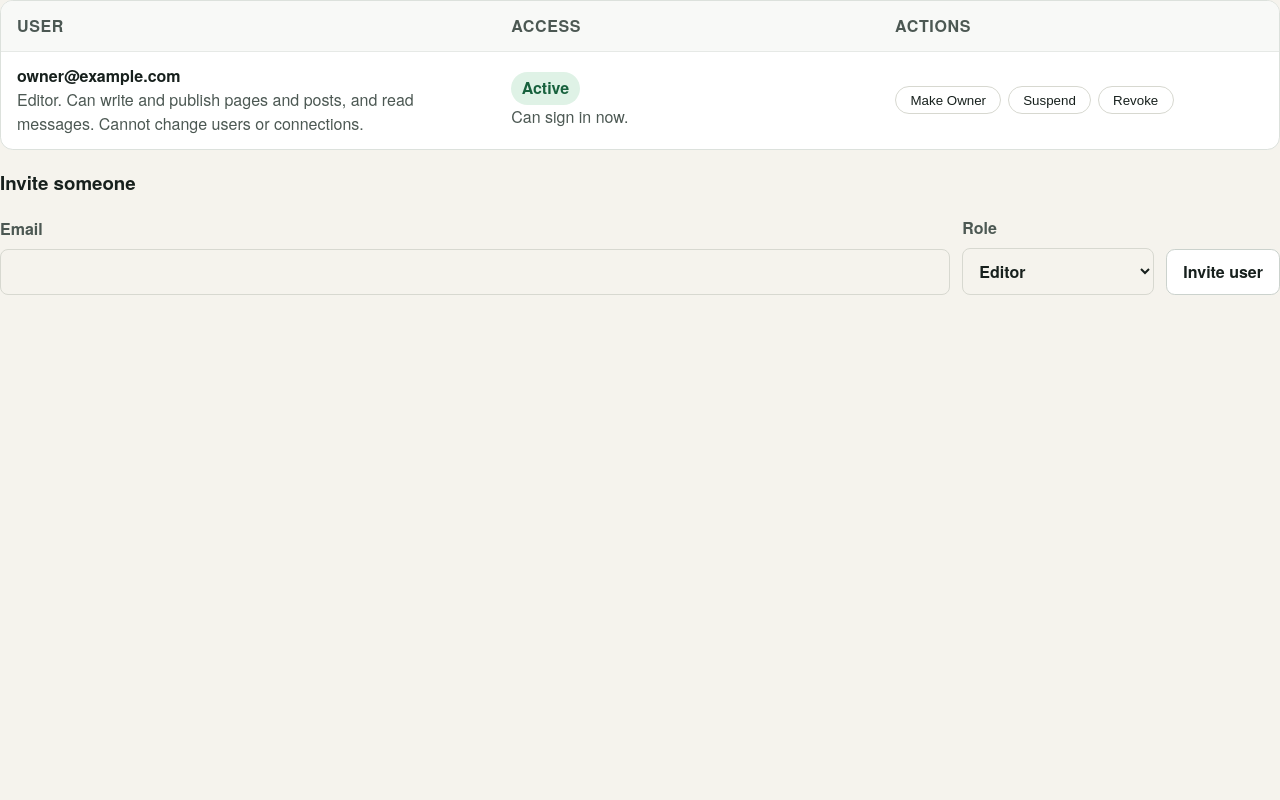
Scenario: Settings Users panel and its shared access mutation state › shares one mutation state: a failed request's retry button appears in the technical detail controls
What coordinates should you click on to do the following:
click the button "Make Owner"
I would click on:
 (948, 100)
Its box is [895, 86, 1001, 114].
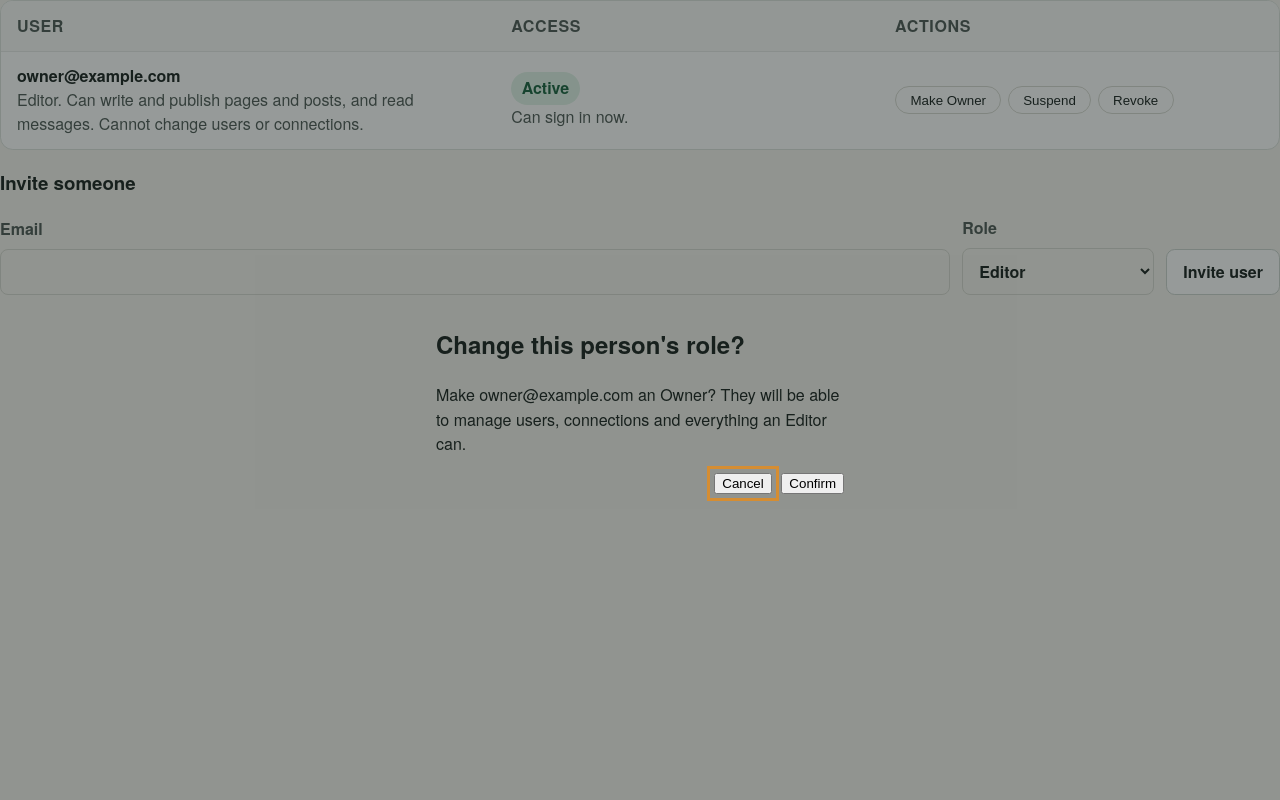
Result: the dialog with class "revoke-confirm-dialog" is shown at [416, 286, 864, 514]
What coordinates should you click on to do the following:
click the button "Confirm"
I would click on:
 (813, 484)
Its box is [781, 473, 844, 494].
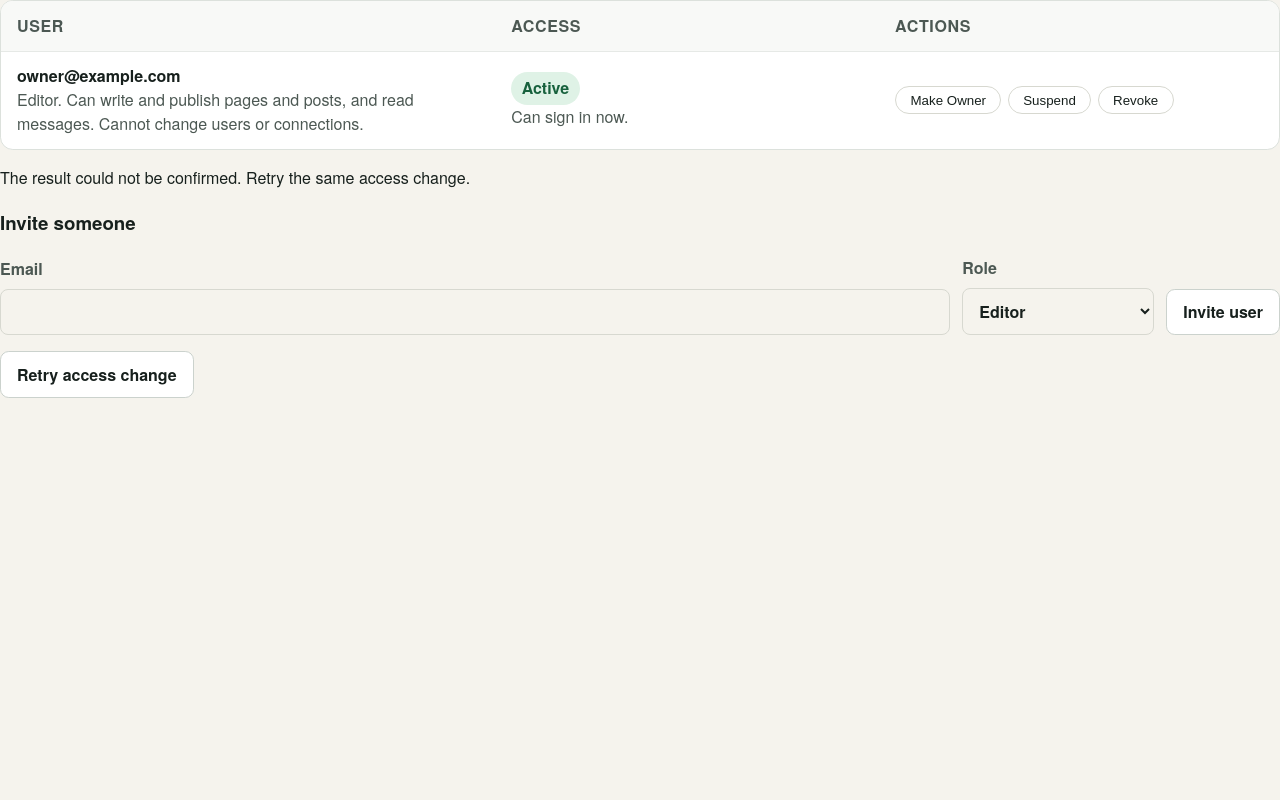
Result: the button "Retry access change" is shown at [0, 352, 194, 398]
